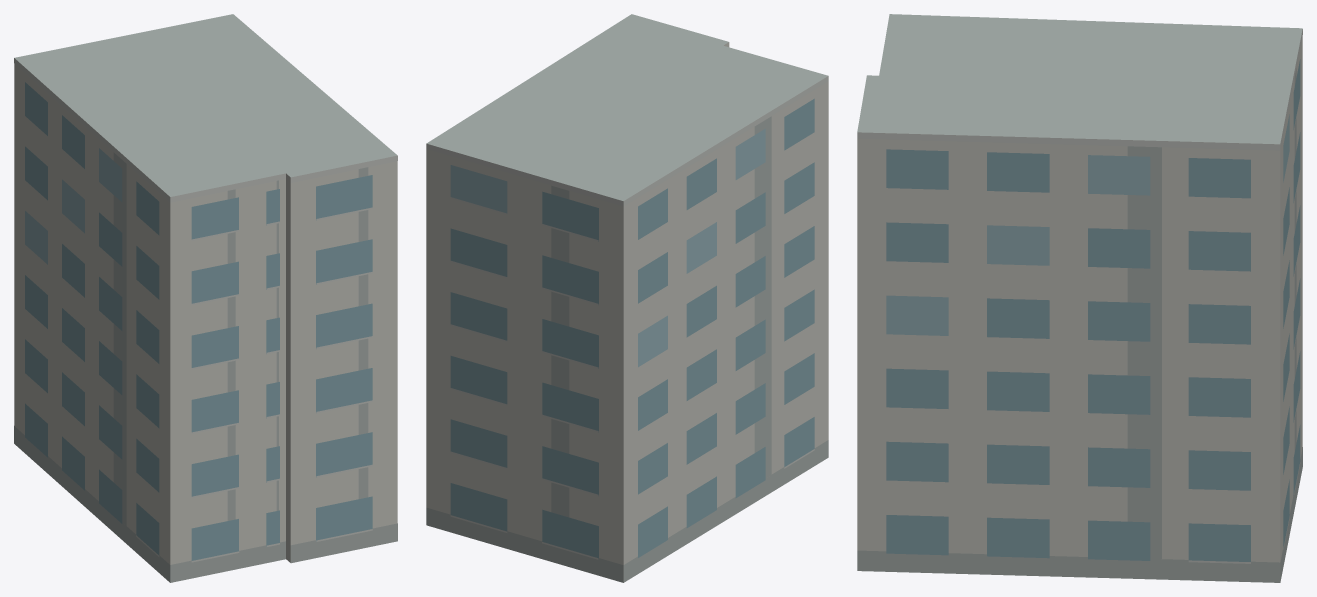
The model's file is survey-upis-33036745.glb.
3 renders of one model, left to right at view 1: azimuth 30°, elevation 25°; view 2: azimuth 150°, elevation 25°; view 3: azimuth 270°, elevation 25°, orthographic. The views are drawn at different scales.
Parts seen in each view (by area): view 1: survey-upis-33036745.tmp; view 2: survey-upis-33036745.tmp; view 3: survey-upis-33036745.tmp.
Part boxes in pixels (<box>): survey-upis-33036745.tmp: <box>14,14,397,582</box>; survey-upis-33036745.tmp: <box>426,14,828,582</box>; survey-upis-33036745.tmp: <box>857,14,1302,582</box>.
Size of the model in its own units: 10.78 by 16.9 by 15.57.
